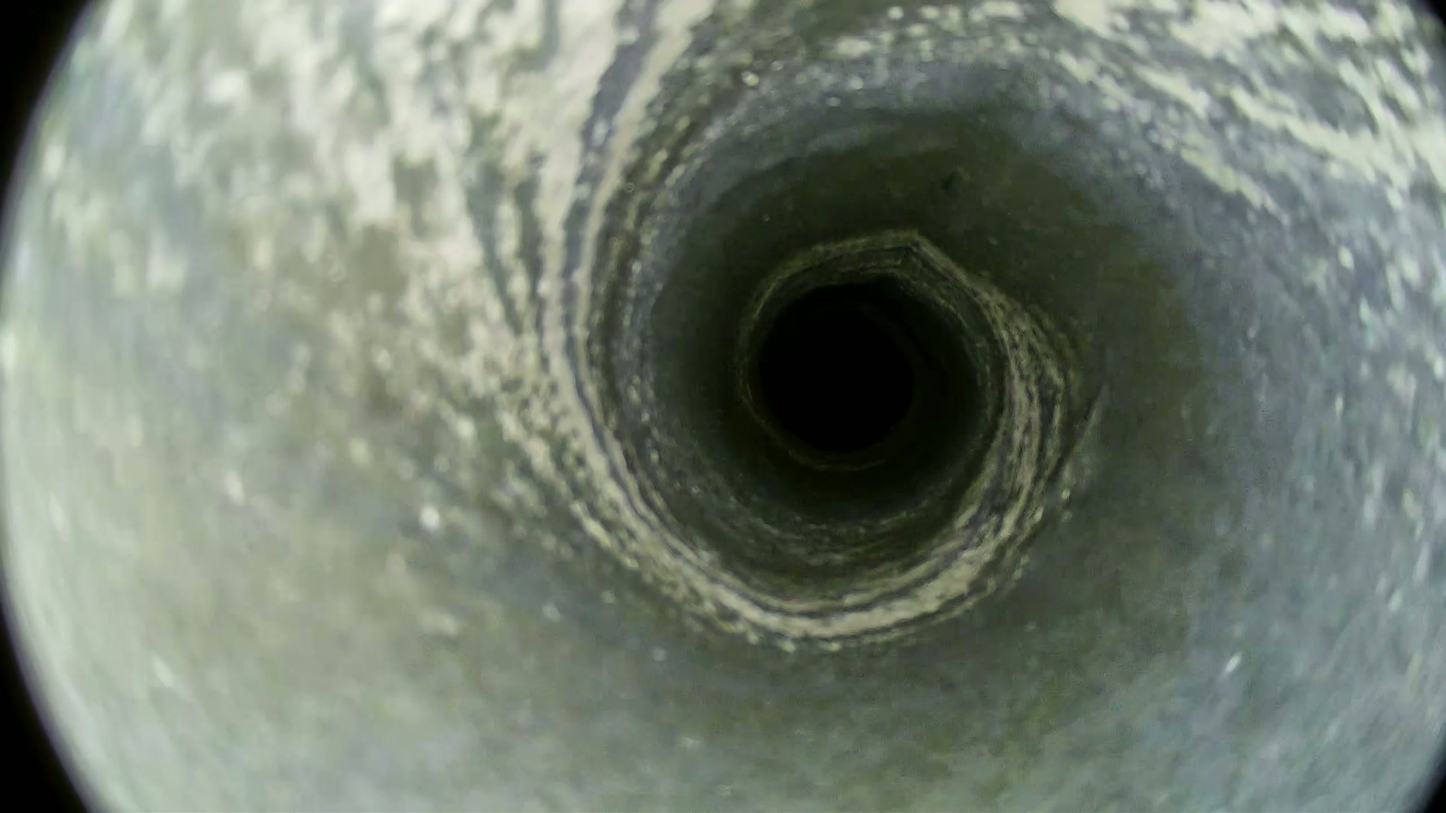hole: (770, 315, 912, 451)
